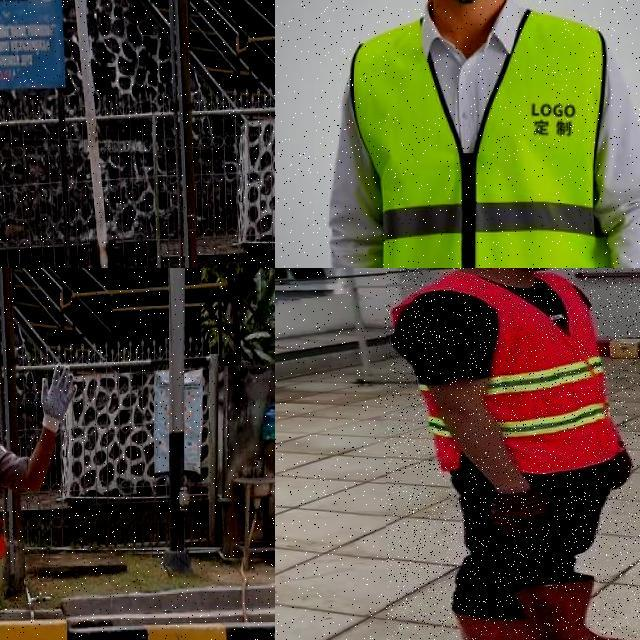boots: (516, 581, 640, 640), (450, 612, 589, 640)
vest: (357, 6, 613, 268), (385, 268, 614, 473)
